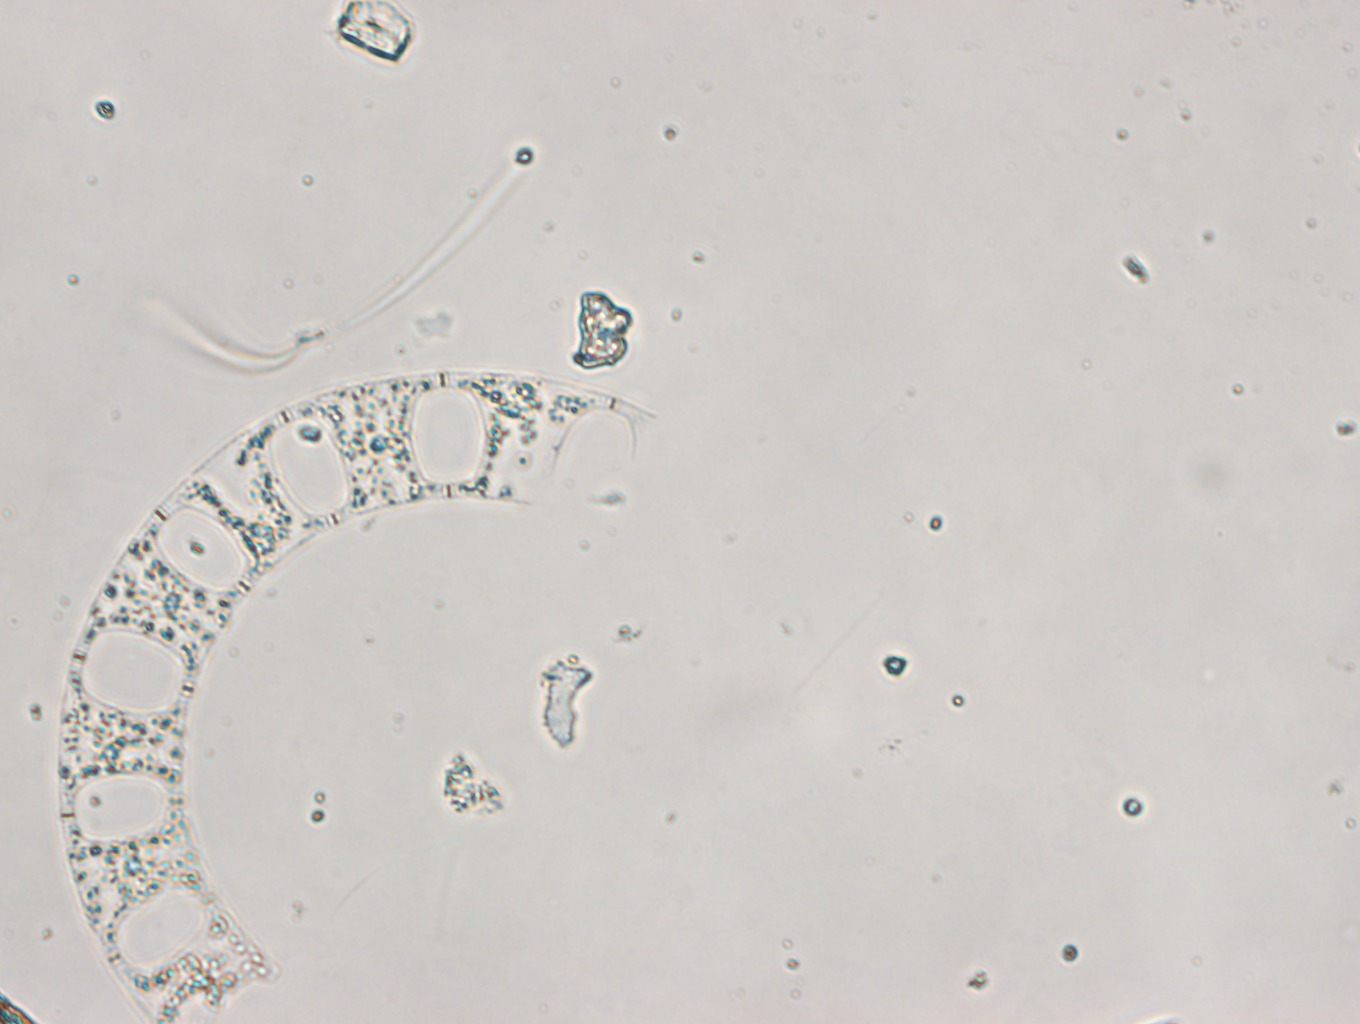eucampia: (57, 369, 660, 1024)
